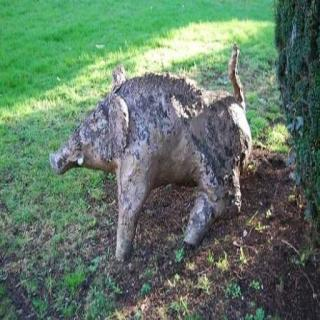Pig: (24, 56, 256, 270)
